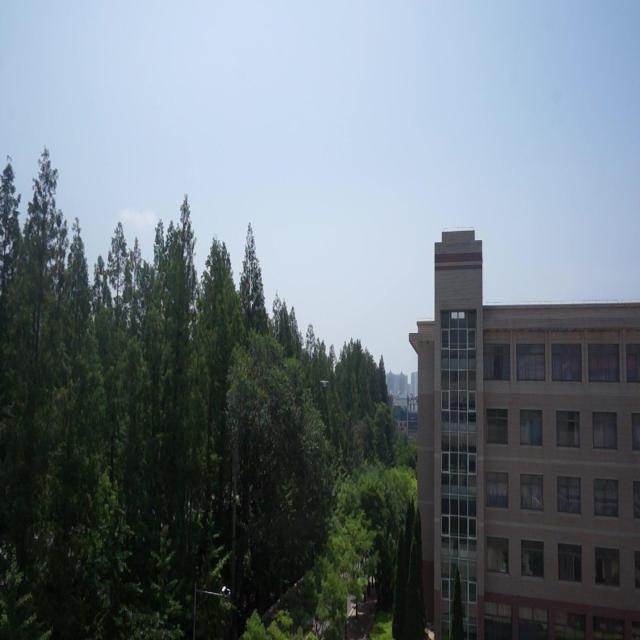drone: (318, 377, 330, 389)
